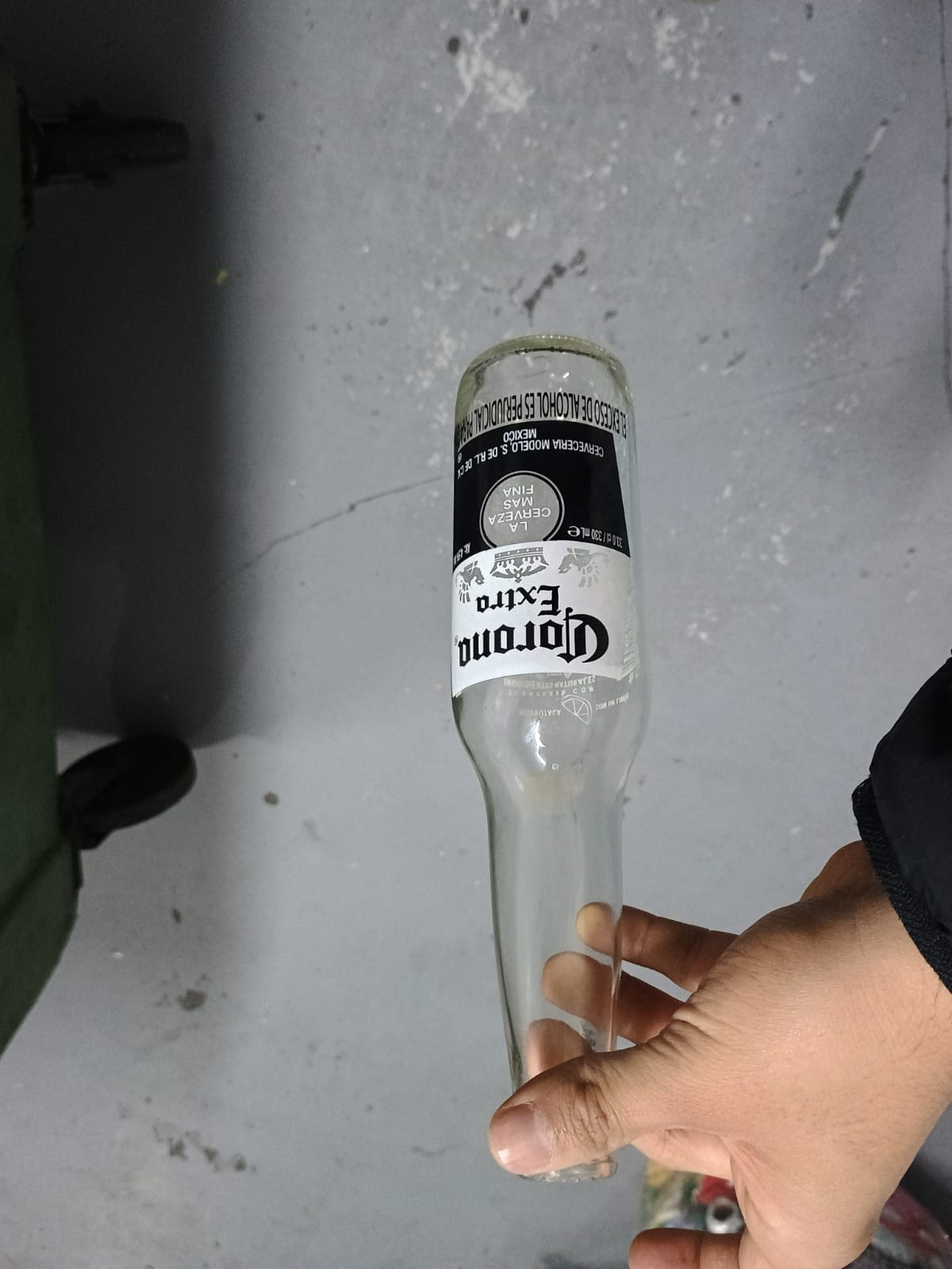Vidrio: (448, 338, 650, 1188)
